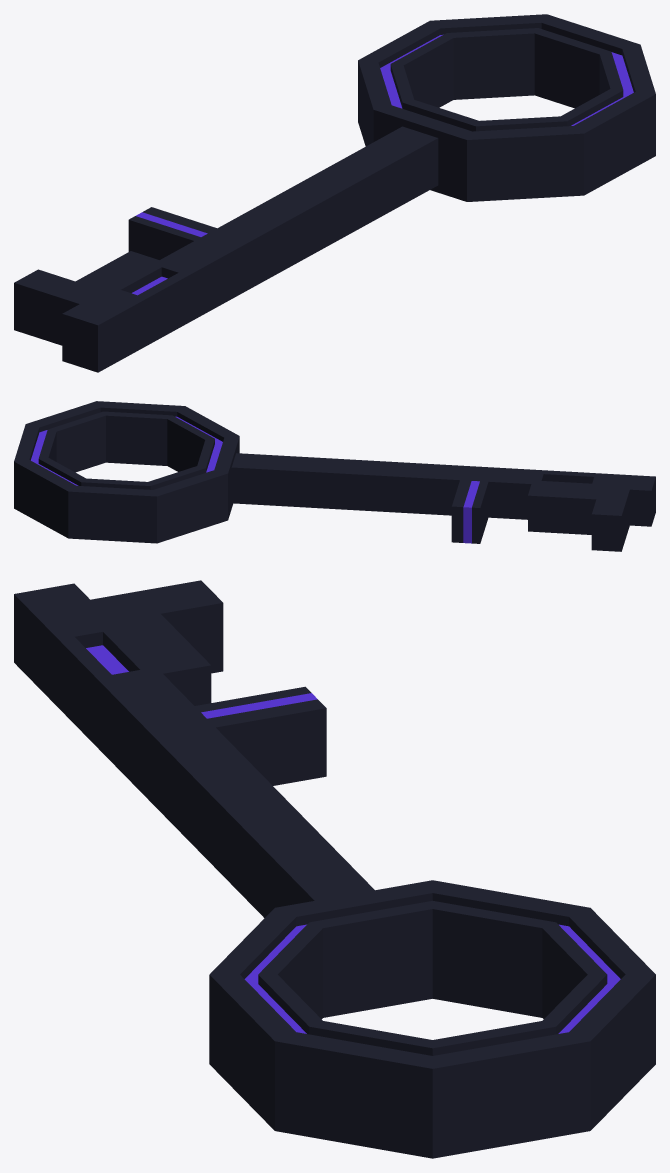
The model's file is Theftable_Key_Black.fbx.
3 views of the same model, one above another, from view 1: azimuth 30°, elevation 25°; view 2: azimuth 150°, elevation 25°; view 3: azimuth 270°, elevation 25° (orthographic). The views are drawn at different scales.
Parts seen in each view (by area): view 1: Cylinder.048; view 2: Cylinder.048; view 3: Cylinder.048.
Boxes of the visible parts, x1,y1,x2,y2 form: Cylinder.048: [14, 14, 655, 372]; Cylinder.048: [14, 401, 655, 551]; Cylinder.048: [14, 580, 655, 1158].
Bounding box in the file's own units: 24.86 × 2.09 × 13.51.
